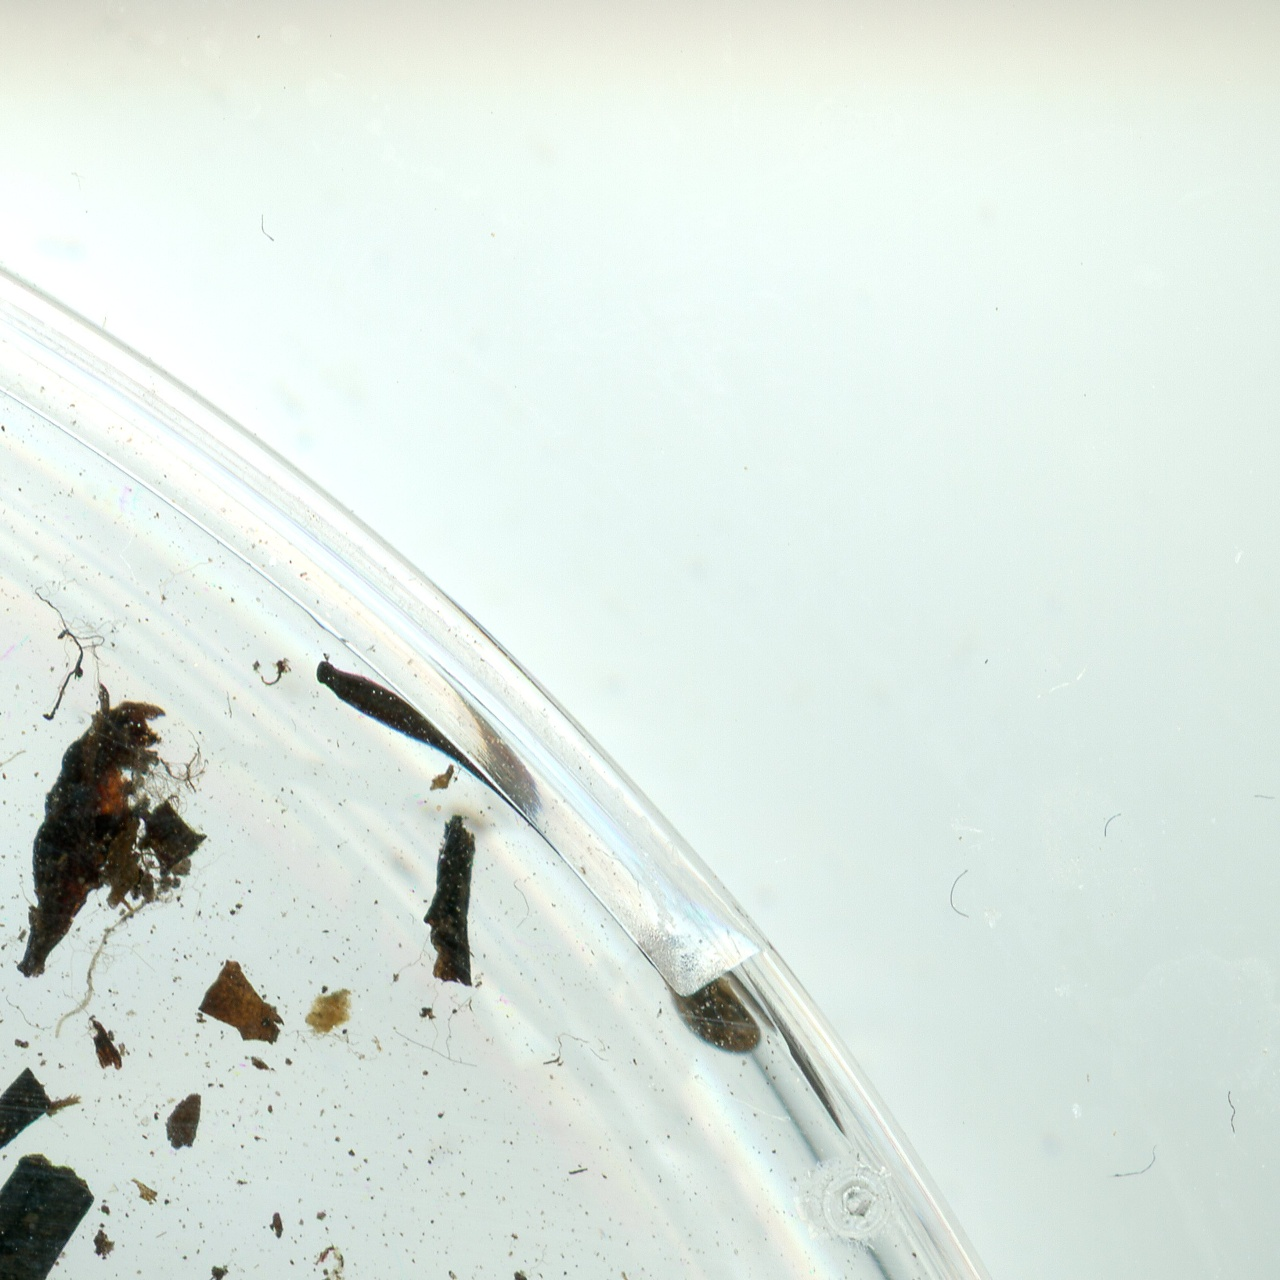arthropod: (13, 685, 164, 979)
